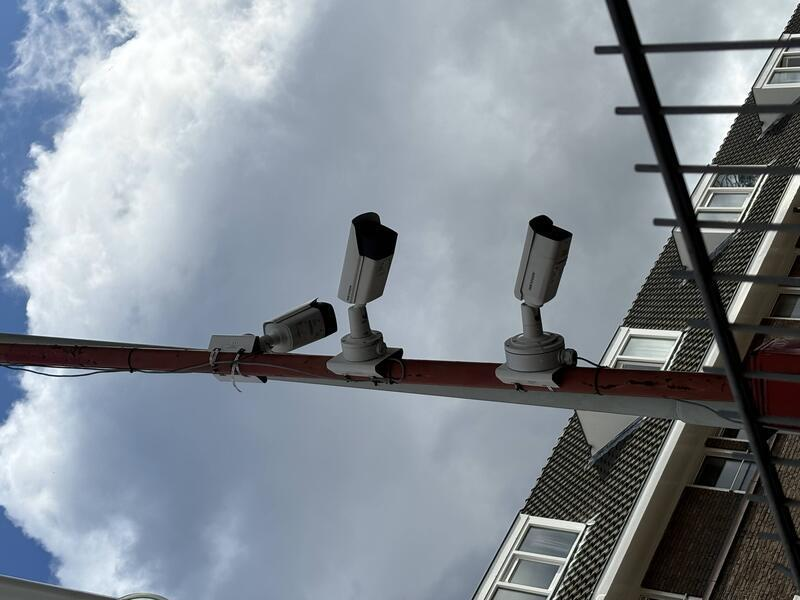bullet: (284, 501, 394, 579), (293, 334, 396, 404), (243, 260, 301, 340)
